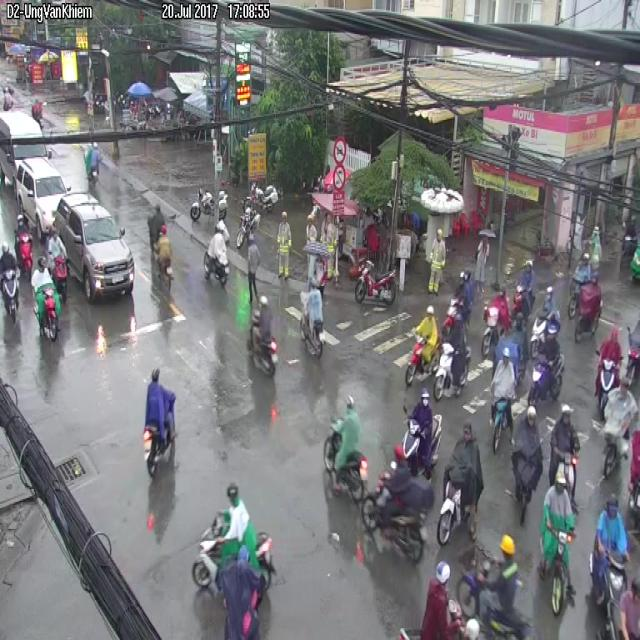car: (142, 369, 176, 476), (405, 305, 441, 385), (248, 296, 278, 375), (335, 396, 361, 471), (308, 280, 322, 338)
traffic-light: (54, 194, 135, 299)
